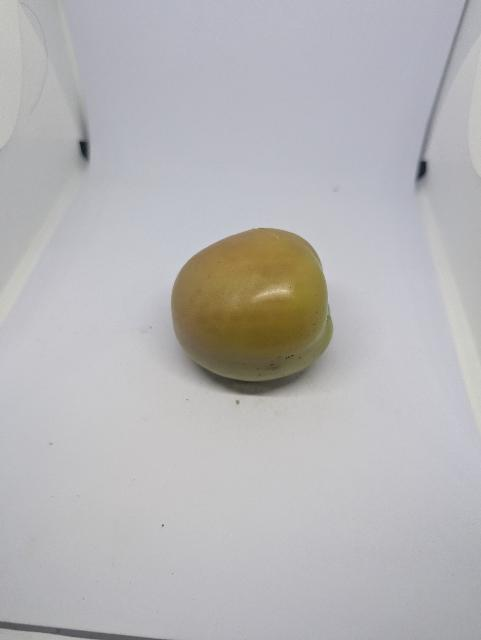breaker: (172, 228, 333, 381)
